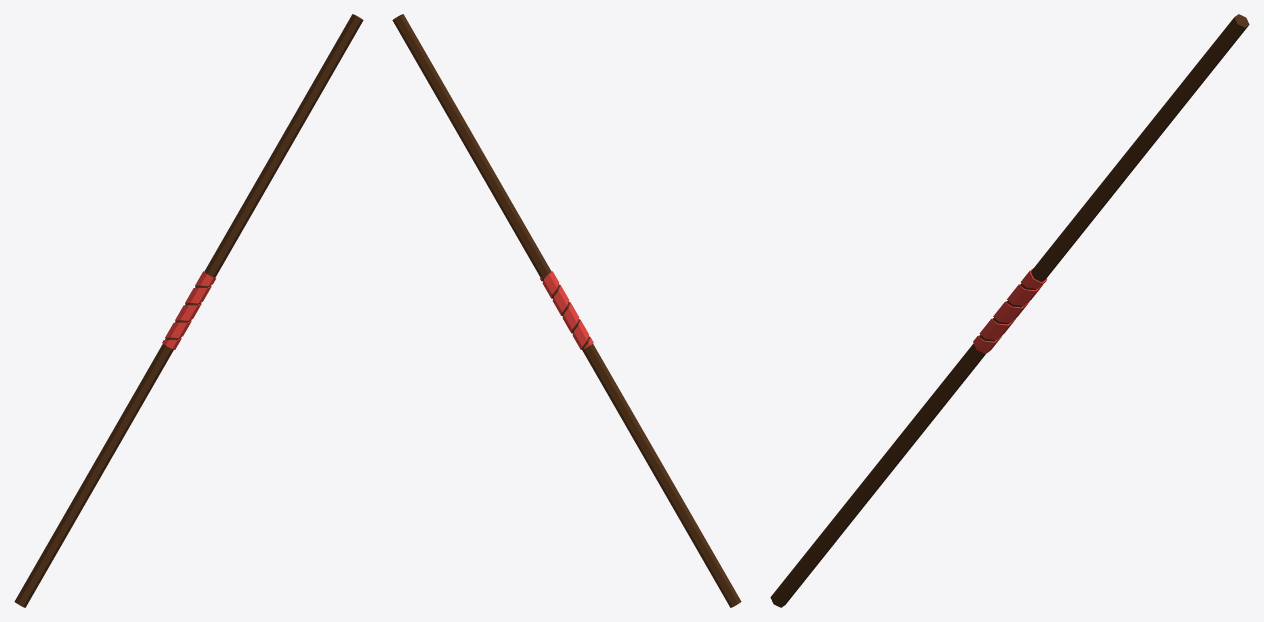
The model's file is Staff.fbx.
3 views of the same model, side by side, from view 1: azimuth 30°, elevation 25°; view 2: azimuth 150°, elevation 25°; view 3: azimuth 330°, elevation 25° (orthographic). The views are drawn at different scales.
Parts seen in each view (by area): view 1: Staff; view 2: Staff; view 3: Staff.
Part boxes in pixels (x1,y1,x2,y2): Staff: [14, 14, 363, 607]; Staff: [392, 14, 741, 607]; Staff: [770, 14, 1249, 607].
Size of the model in its own units: 3059 by 4318 by 116.
